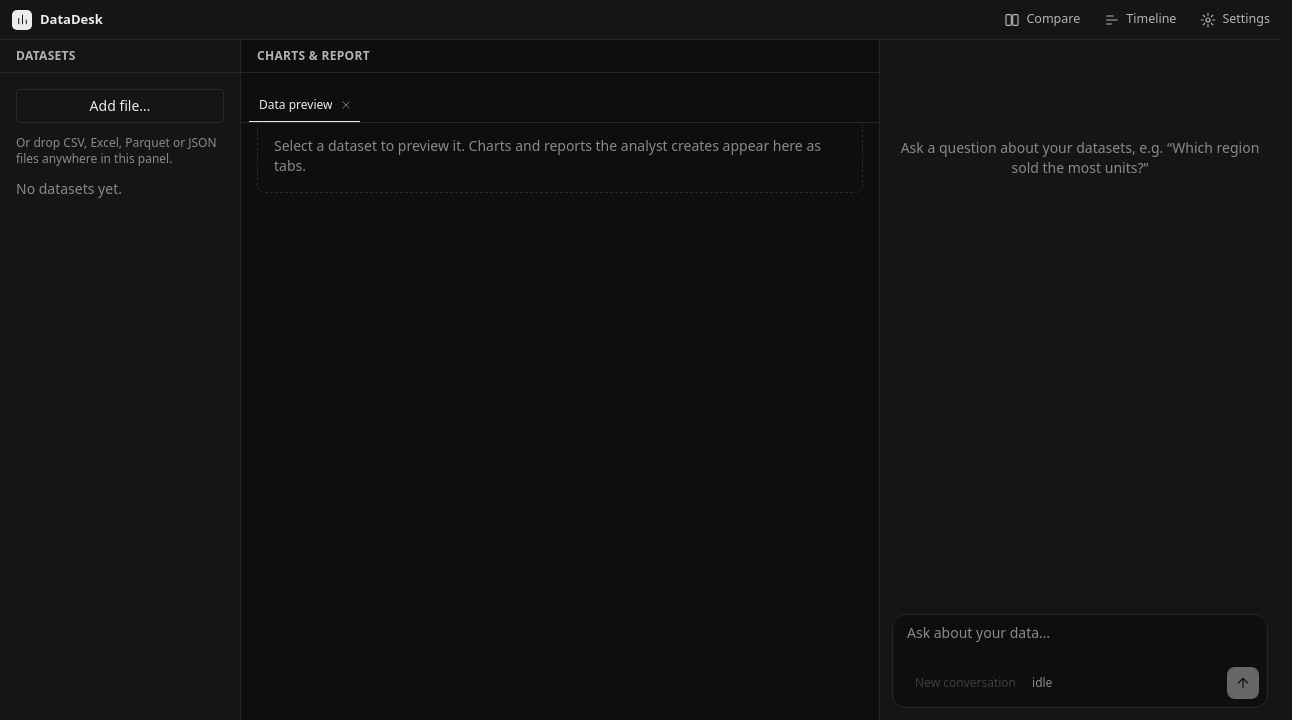
Test: App shell › toggles the timeline drawer per layout
Click the button "Timeline". click: (1140, 20)
box: [1094,6,1186,34]
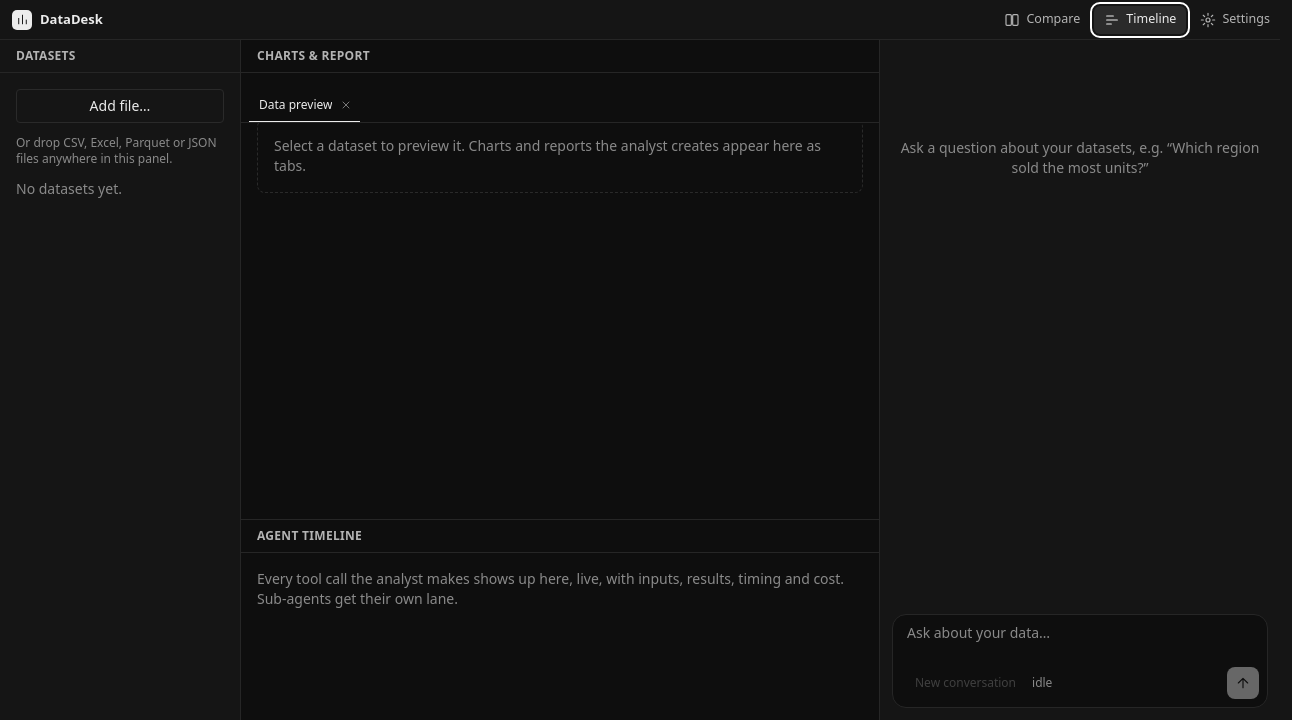
Now the element "Agent timeline" is shown, box [241,520,879,608]
Click the button "Timeline". click: (1140, 20)
box: [1094,6,1186,34]
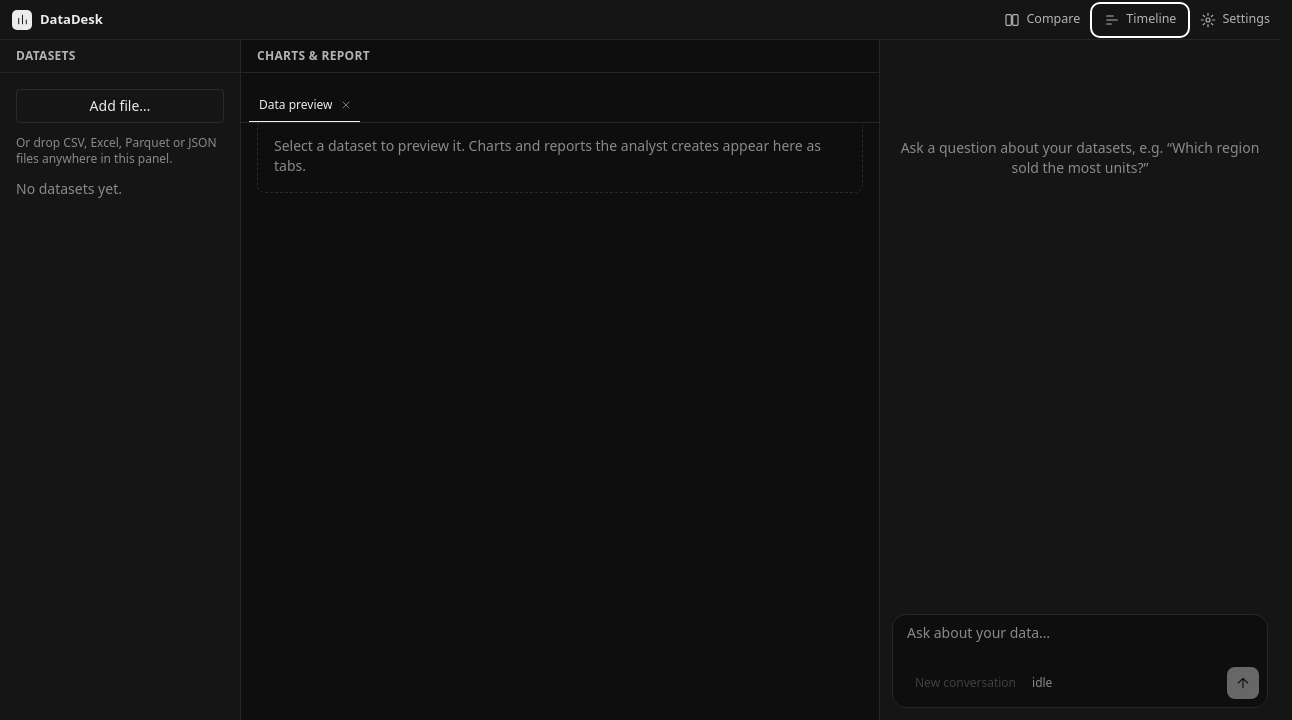
Now the heading "Agent timeline" is gone
